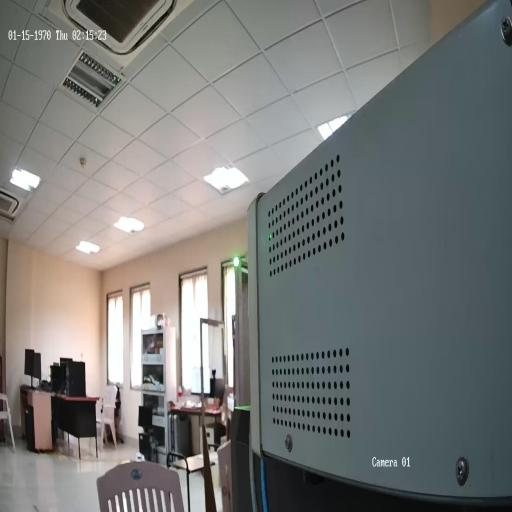laser: (234, 256, 240, 268)
